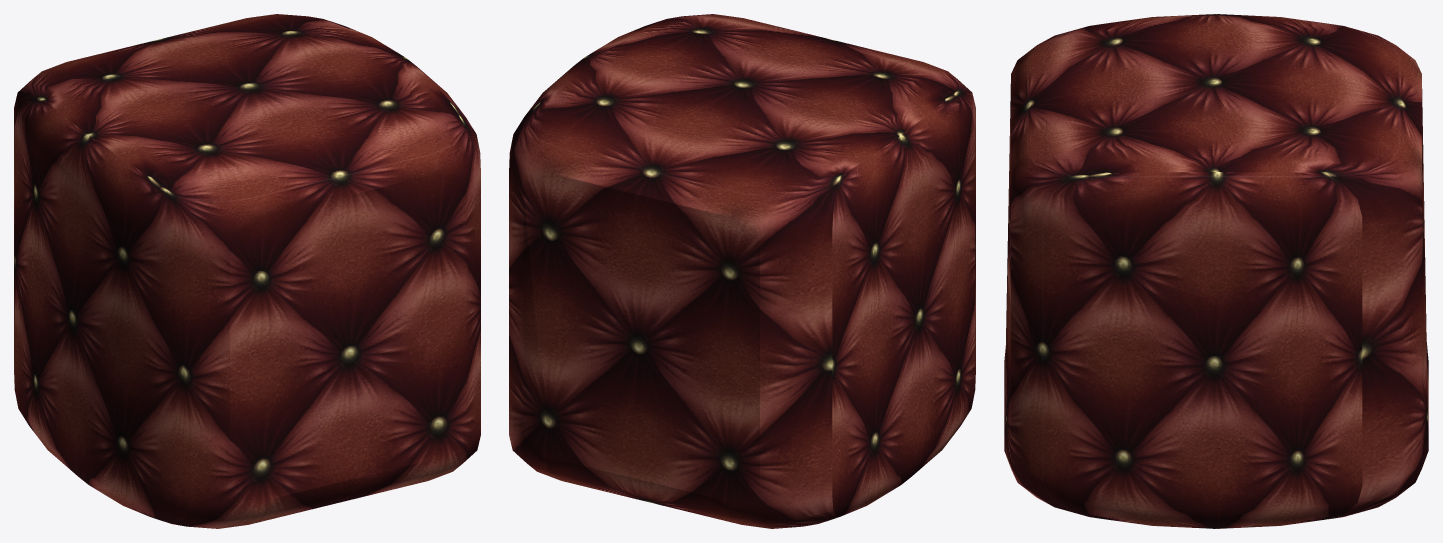
Rendered from ItsSofty.fbx.
3 views of the same model, side by side, from view 1: azimuth 30°, elevation 25°; view 2: azimuth 150°, elevation 25°; view 3: azimuth 270°, elevation 25° (orthographic). The views are drawn at different scales.
Parts seen in each view (by area): view 1: pCube1; view 2: pCube1; view 3: pCube1.
Part boxes in pixels (<box>): pCube1: <box>14,14,480,528</box>; pCube1: <box>509,14,975,528</box>; pCube1: <box>1004,14,1428,528</box>.
Bounding box in the file's own units: 0.9792 × 0.9875 × 1.
Materials: 1 (1 with a texture image).
